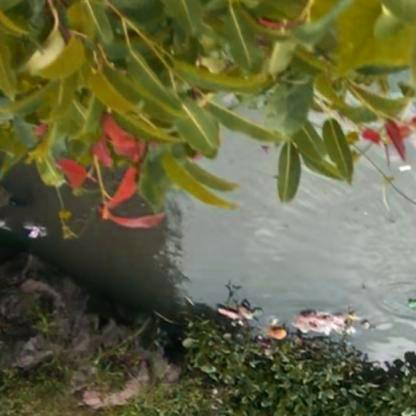Trash: (293, 308, 349, 336), (218, 302, 264, 327), (26, 220, 46, 242)
